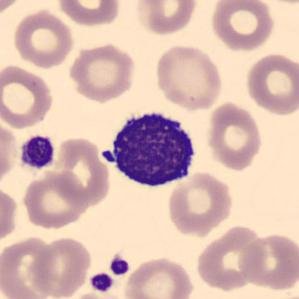Lymphocyte: (97, 104, 202, 192)
Platelets: (17, 132, 57, 171), (89, 271, 115, 293), (108, 253, 131, 277)
RBC: (193, 222, 266, 292), (153, 43, 224, 111), (165, 169, 235, 236), (52, 134, 112, 208), (67, 41, 137, 104), (204, 100, 264, 172), (20, 169, 89, 230), (10, 8, 76, 69), (32, 234, 93, 298), (0, 233, 58, 299), (0, 63, 56, 130), (238, 231, 298, 292), (243, 51, 298, 117), (208, 0, 276, 52), (123, 255, 196, 299), (132, 0, 199, 36), (56, 0, 122, 27), (0, 117, 18, 189), (0, 184, 20, 248), (66, 290, 127, 299), (0, 0, 26, 20), (255, 0, 298, 7)
